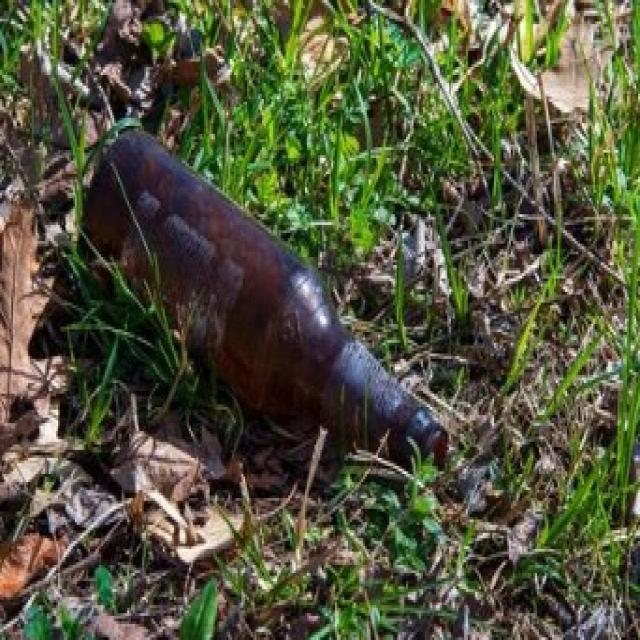electronic: (79, 128, 450, 488)
